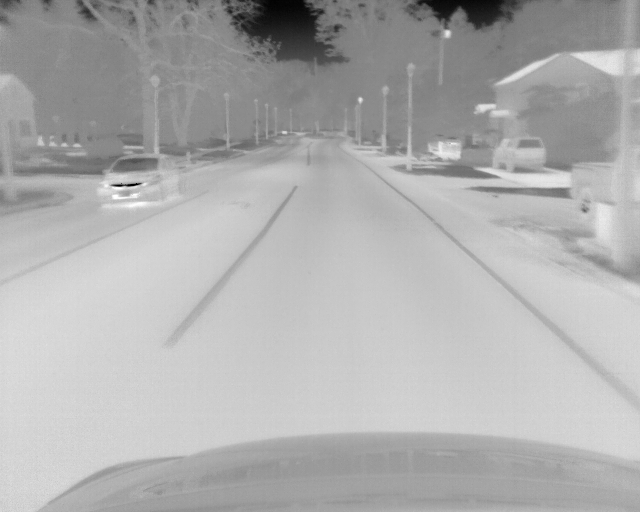car: (96, 151, 184, 205), (491, 137, 547, 173)
